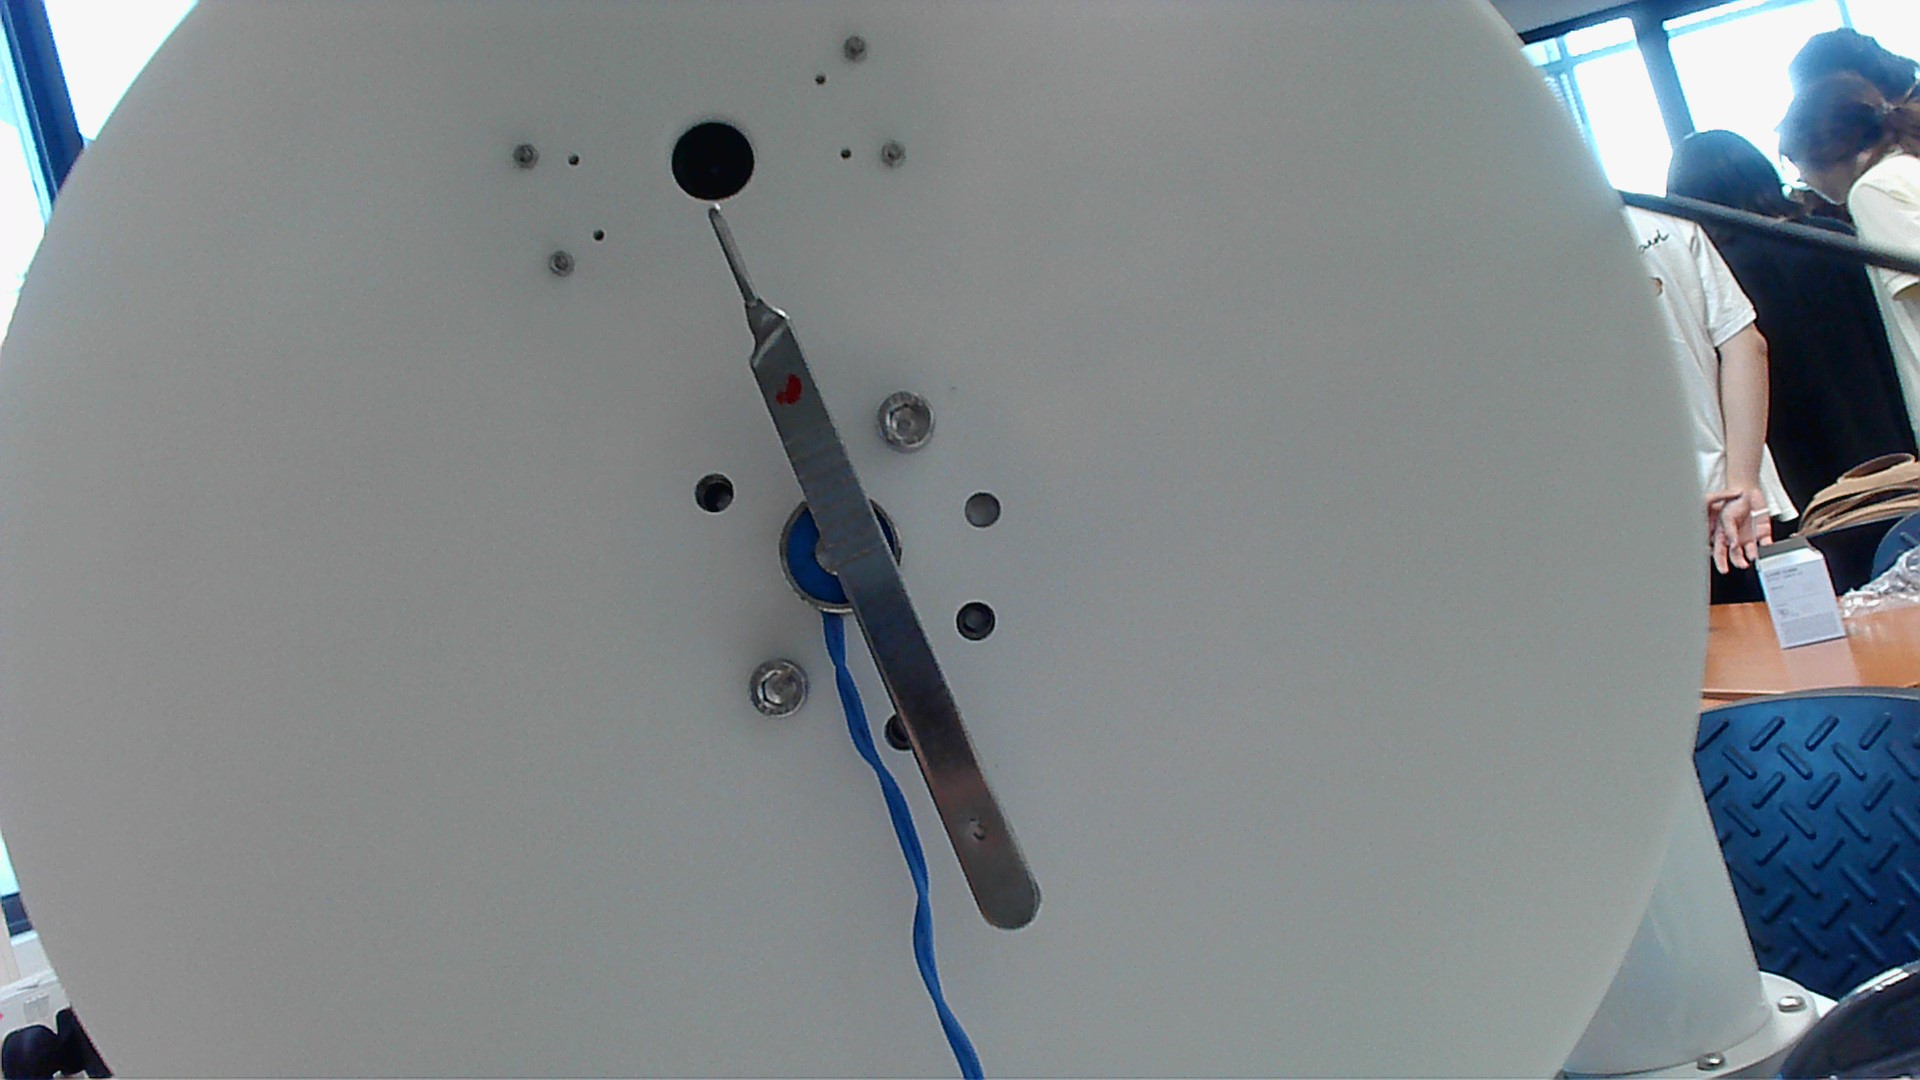Stain: (764, 364, 814, 410)
